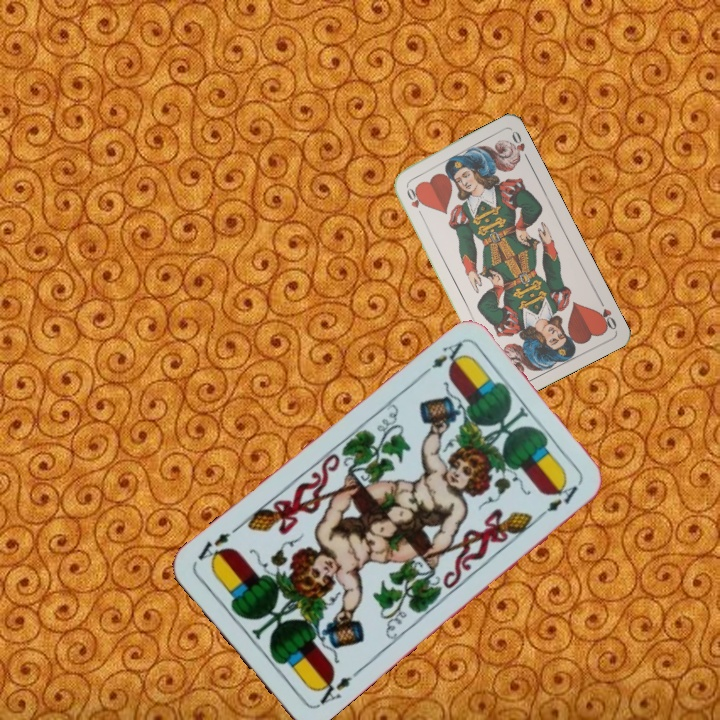EA: (416, 337, 466, 380), (310, 670, 355, 710)
HO: (593, 295, 619, 333), (402, 182, 426, 220)
